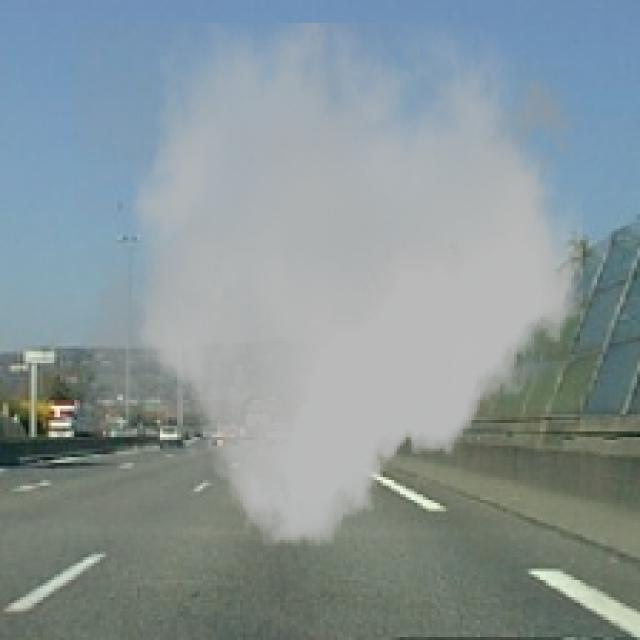Smoke: (74, 23, 592, 546)
